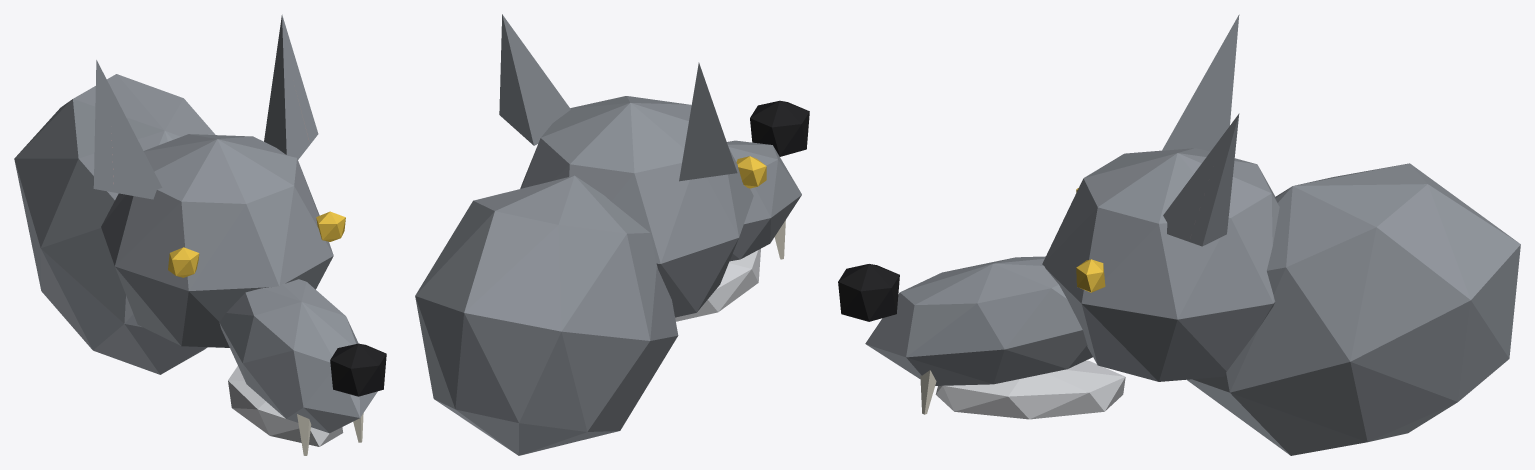
Rendered from wolf_0_head.glb.
The picture shows the model from 3 angles, left to right: view 1: azimuth 30°, elevation 25°; view 2: azimuth 150°, elevation 25°; view 3: azimuth 270°, elevation 25°; orthographic projection. The views are drawn at different scales.
Parts seen in each view (by area): view 1: wolf_0_head; view 2: wolf_0_head; view 3: wolf_0_head.
Boxes of the visible parts, x1=… form: wolf_0_head: x1=14, y1=14, x2=386, y2=455; wolf_0_head: x1=415, y1=14, x2=809, y2=455; wolf_0_head: x1=838, y1=14, x2=1520, y2=455.
Size of the model in its own units: 0.23 by 0.3387 by 0.5533.
